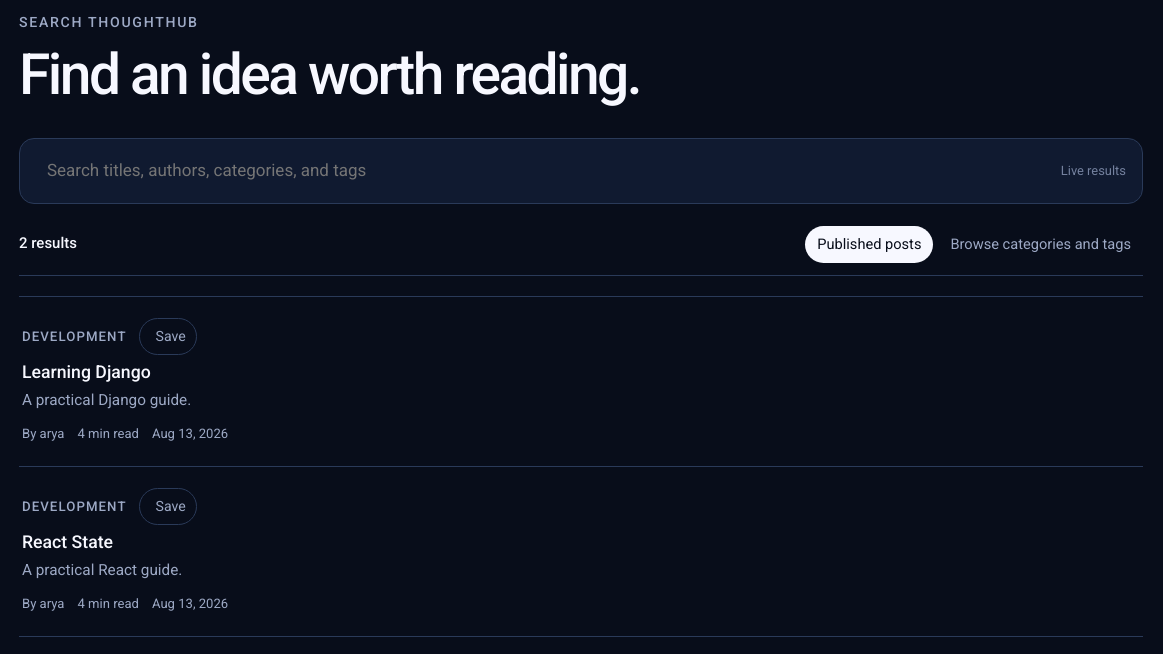
Scenario: live community features › searches the backend automatically while typing
expect the link "React State" is shown: met, box x1=22 y1=532 x2=113 y2=552
Type "Django" into the search field named "Search published posts by title, author, category, or tag".
click(548, 171); type("Django")  # box x1=35 y1=145 x2=1061 y2=197
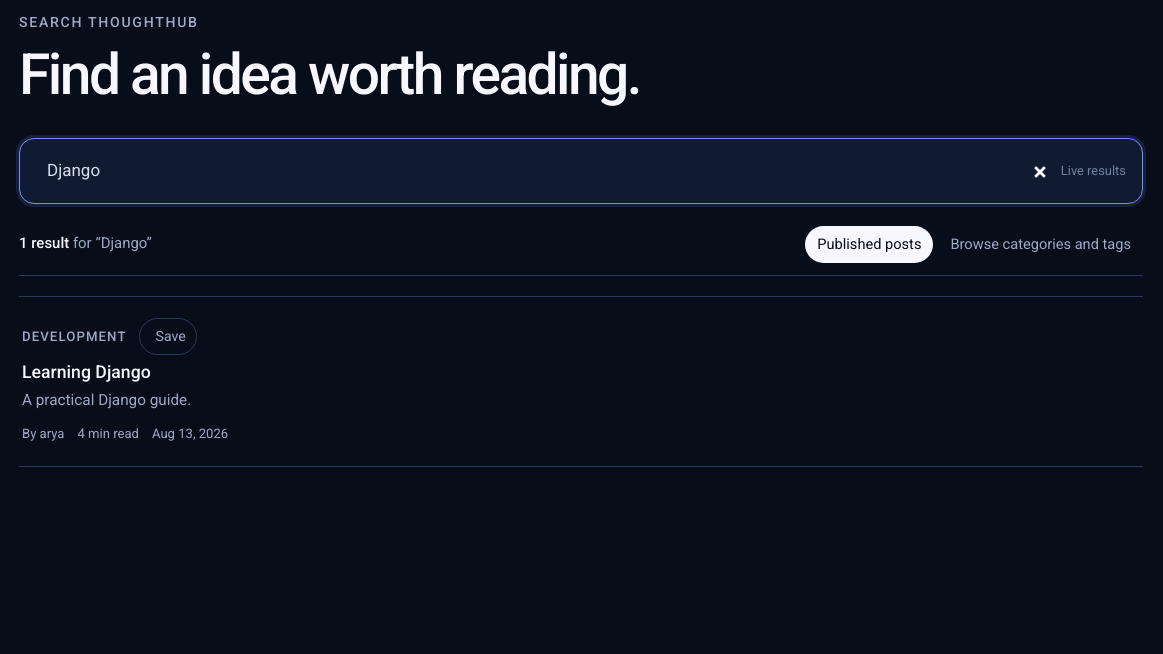
expect the text "1 result" is shown: met, box x1=19 y1=234 x2=69 y2=252
expect the link "React State" is gone: met
